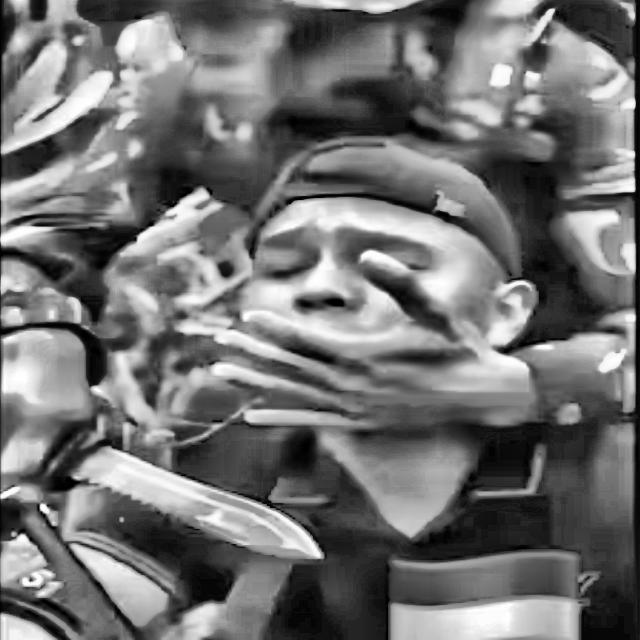pisau: (0, 327, 354, 580)
